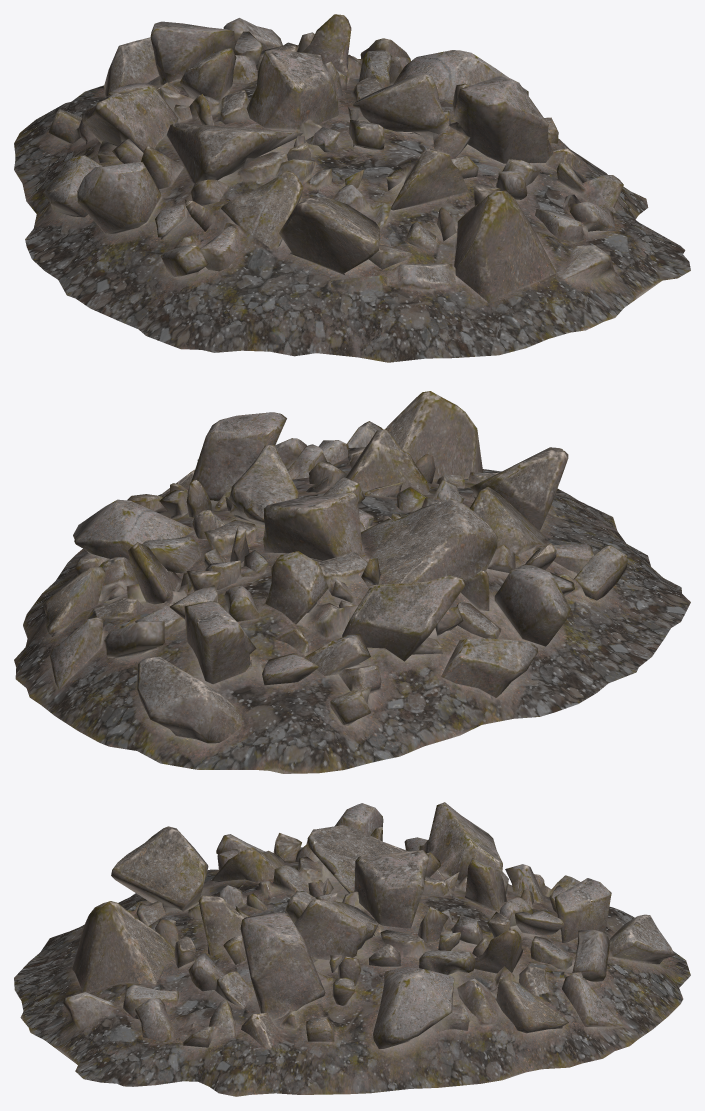
File: SM_DebrisPile_01a.fbx
3 renders of one model, top to bottom at view 1: azimuth 30°, elevation 25°; view 2: azimuth 150°, elevation 25°; view 3: azimuth 270°, elevation 25°, orthographic. The views are drawn at different scales.
Parts seen in each view (by area): view 1: SM_DebrisPile_01a_LOD0; view 2: SM_DebrisPile_01a_LOD0; view 3: SM_DebrisPile_01a_LOD0.
Boxes of the visible parts, box(x1,y1,x2,y2) form: SM_DebrisPile_01a_LOD0: box(14, 14, 690, 362); SM_DebrisPile_01a_LOD0: box(14, 391, 690, 773); SM_DebrisPile_01a_LOD0: box(14, 802, 690, 1096).
Size of the model in its own units: 798 by 974 by 199.
Materials: 1 (1 with a texture image).
